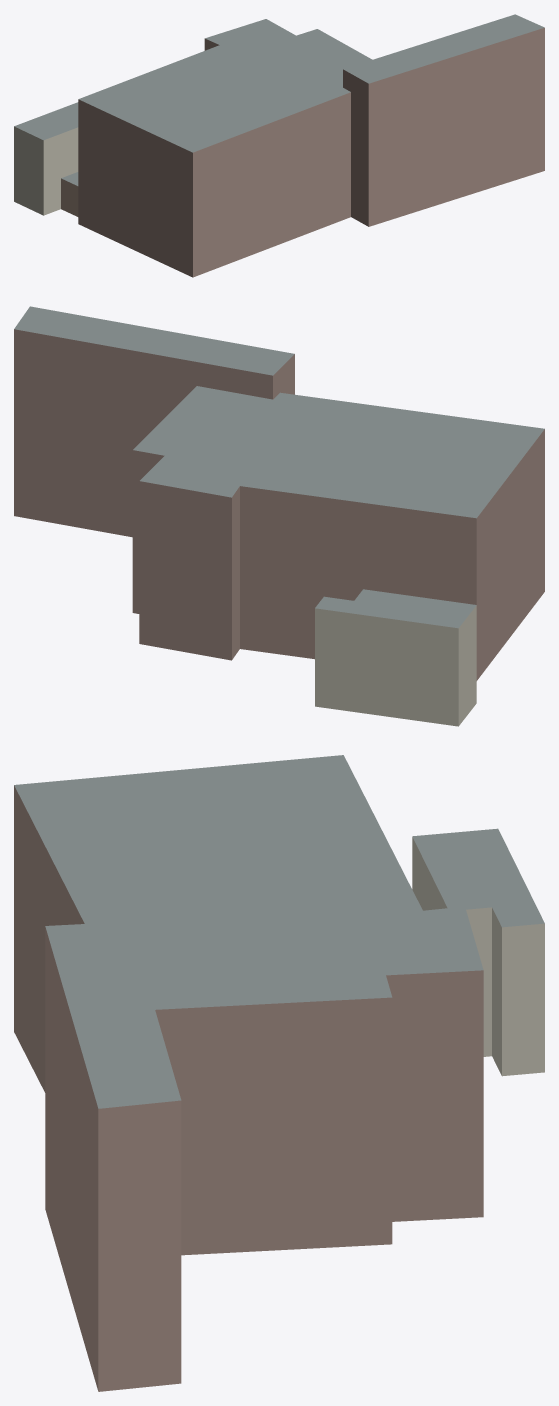
Rendered from context-0-1.gltf.
The picture shows the model from 3 angles, top to bottom: view 1: azimuth 30°, elevation 25°; view 2: azimuth 150°, elevation 25°; view 3: azimuth 270°, elevation 25°; orthographic projection. The views are drawn at different scales.
Visible parts, largest first — view 1: context-0-1; view 2: context-0-1; view 3: context-0-1.
Part boxes in pixels (left/top/right/bottom): context-0-1: left=14, top=14, right=544, bottom=277; context-0-1: left=14, top=306, right=544, bottom=726; context-0-1: left=14, top=755, right=544, bottom=1391.
Bounding box in the file's own units: 66.69 × 21.24 × 36.11.
